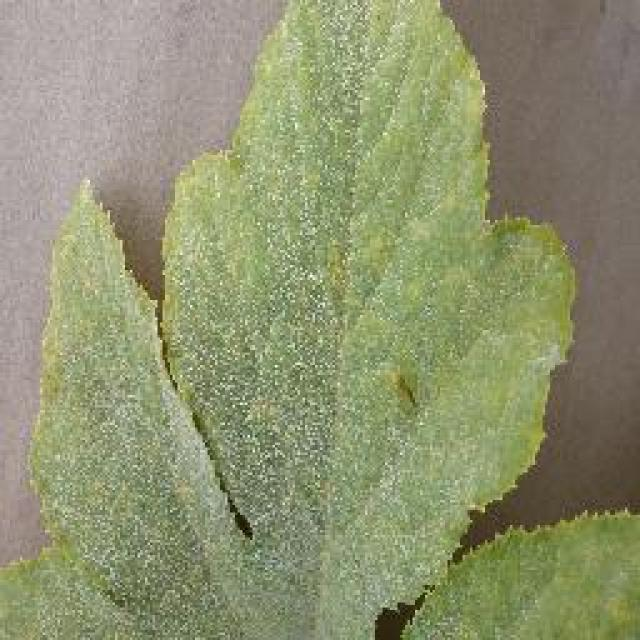Squ_Powdery_mildew: (54, 204, 448, 640)
